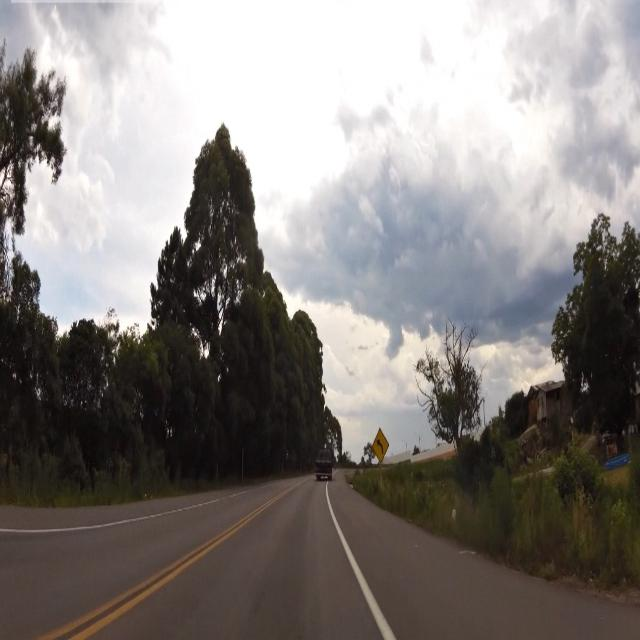A-2b: (373, 430, 390, 462)
